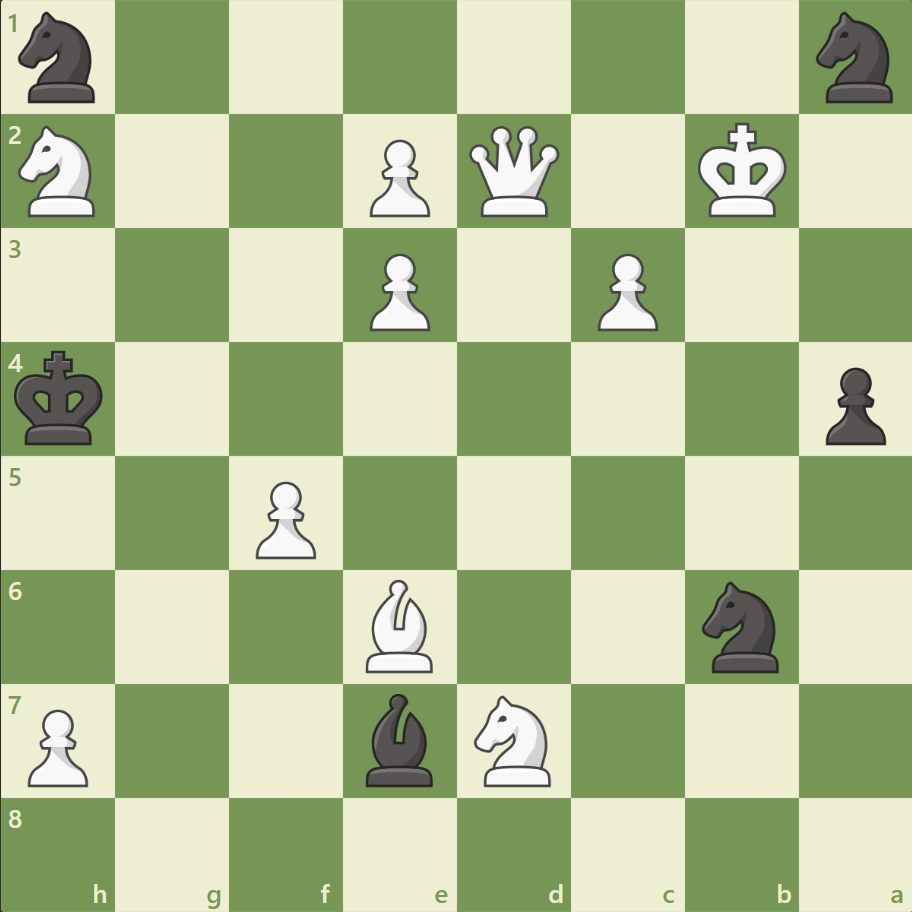B: (358, 574, 442, 676)
K: (692, 117, 792, 225)
N: (465, 688, 562, 791), (11, 121, 108, 223)
P: (20, 700, 95, 791), (247, 473, 322, 564), (588, 246, 662, 337), (361, 246, 435, 337), (361, 132, 435, 223)
Q: (464, 122, 563, 222)
b: (358, 687, 442, 790)
k: (11, 344, 111, 452)
n: (806, 7, 903, 110), (11, 7, 108, 110), (692, 575, 789, 677)
p: (815, 359, 889, 450)
